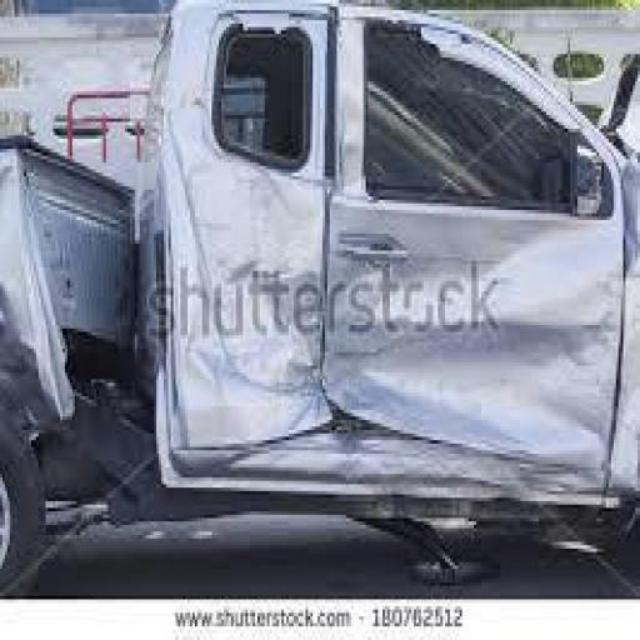dent: (156, 8, 639, 494)
